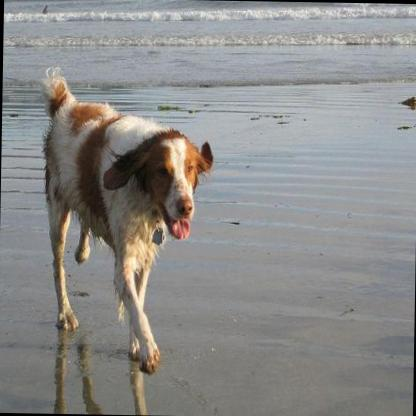Brittany_spaniel: (33, 64, 212, 375)
